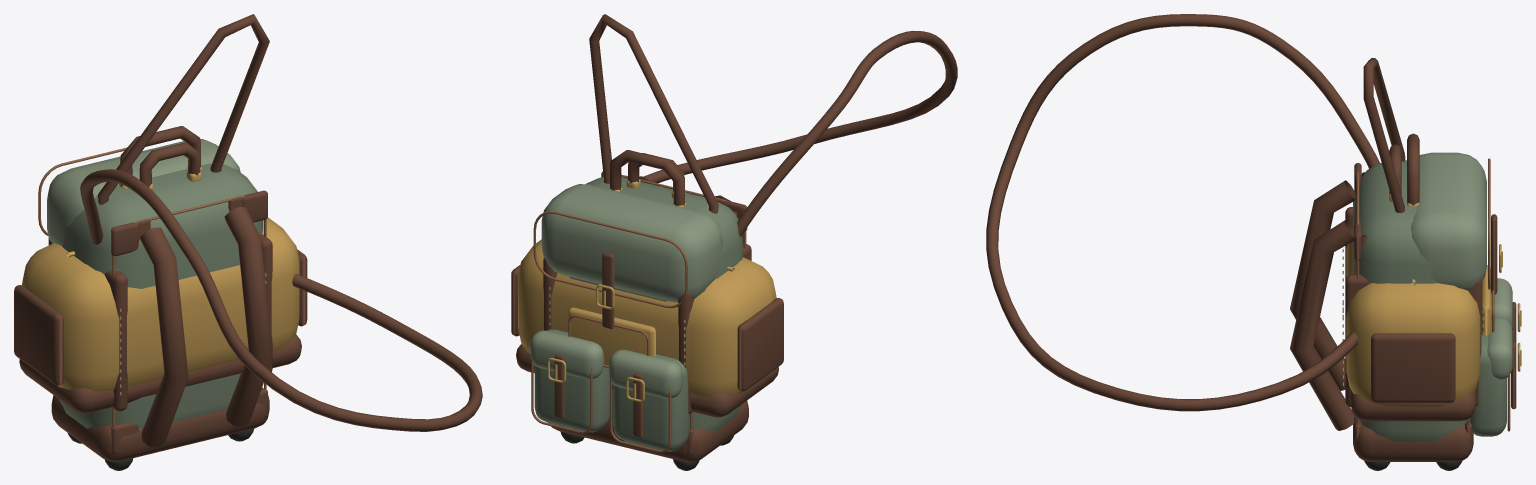
The model's file is traveler-luggage.glb.
3 renders of one model, left to right at view 1: azimuth 30°, elevation 25°; view 2: azimuth 150°, elevation 25°; view 3: azimuth 270°, elevation 25°, orthographic. The views are drawn at different scales.
Parts seen in each view (by area): view 1: Luggage_Backpack, Luggage_Duffel, Satchel_FittedStrap, Satchel_PropStrap, Luggage_Suitcase; view 2: Luggage_Backpack, Luggage_Duffel, Satchel_FittedStrap, Satchel_PropStrap, Luggage_Suitcase; view 3: Luggage_Backpack, Luggage_Duffel, Satchel_FittedStrap, Satchel_PropStrap, Luggage_Suitcase.
Boxes of the visible parts, x1,y1,x2,y2 form: Luggage_Backpack: (38, 139, 272, 461); Luggage_Duffel: (14, 217, 307, 413); Satchel_FittedStrap: (80, 169, 482, 431); Satchel_PropStrap: (98, 14, 269, 204); Luggage_Suitcase: (67, 126, 267, 470); Luggage_Backpack: (530, 153, 748, 462); Luggage_Duffel: (511, 211, 783, 417); Satchel_FittedStrap: (643, 30, 957, 236); Satchel_PropStrap: (589, 14, 718, 213); Luggage_Suitcase: (560, 150, 747, 470); Luggage_Backpack: (1290, 144, 1521, 461); Luggage_Duffel: (1342, 172, 1494, 421); Satchel_FittedStrap: (986, 14, 1379, 411); Satchel_PropStrap: (1363, 58, 1405, 213); Luggage_Suitcase: (1354, 133, 1472, 470).
Bounding box in the file's own units: 0.8087 × 1.01 × 1.2.
